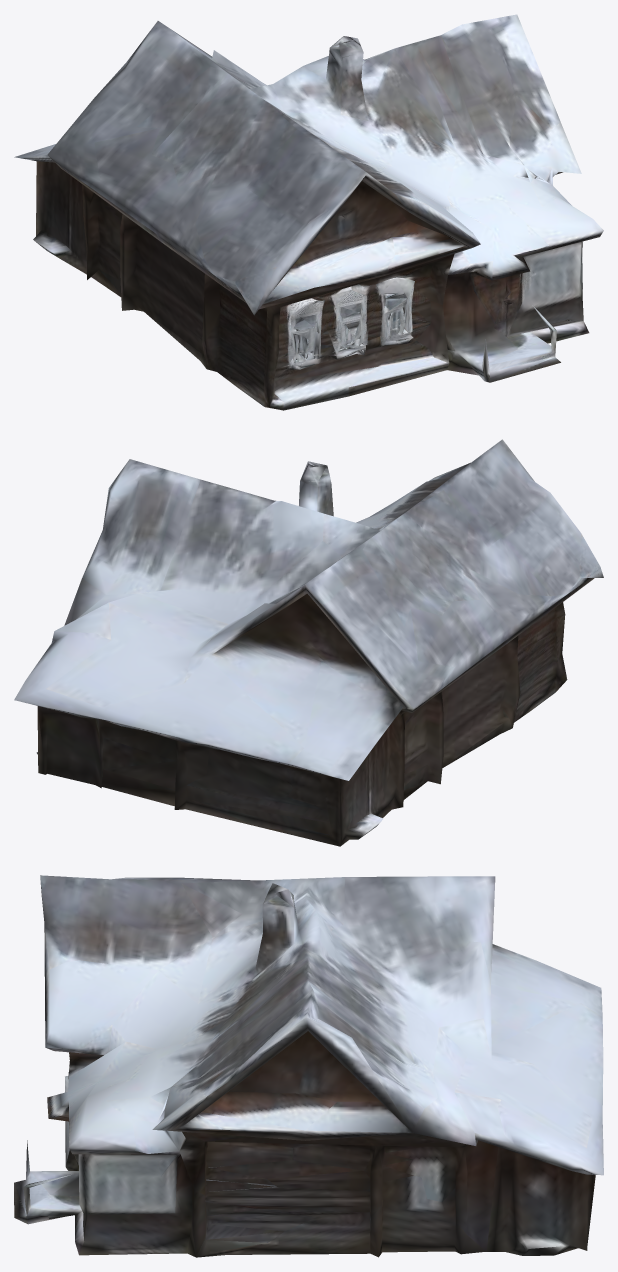
The model's file is house_log.glb.
3 renders of one model, top to bottom at view 1: azimuth 30°, elevation 25°; view 2: azimuth 150°, elevation 25°; view 3: azimuth 270°, elevation 25°, orthographic. The views are drawn at different scales.
Visible parts, largest first — view 1: tripo_node_86d76e71-0406-415a-abae-47992bfba2a1; view 2: tripo_node_86d76e71-0406-415a-abae-47992bfba2a1; view 3: tripo_node_86d76e71-0406-415a-abae-47992bfba2a1.
Part boxes in pixels (x1,y1,x2,y2): tripo_node_86d76e71-0406-415a-abae-47992bfba2a1: (14,14,603,410); tripo_node_86d76e71-0406-415a-abae-47992bfba2a1: (14,439,603,846); tripo_node_86d76e71-0406-415a-abae-47992bfba2a1: (14,875,603,1257).
Size of the model in its own units: 0.8126 by 0.5249 by 0.9781.
Materials: 1 (1 with a texture image).
